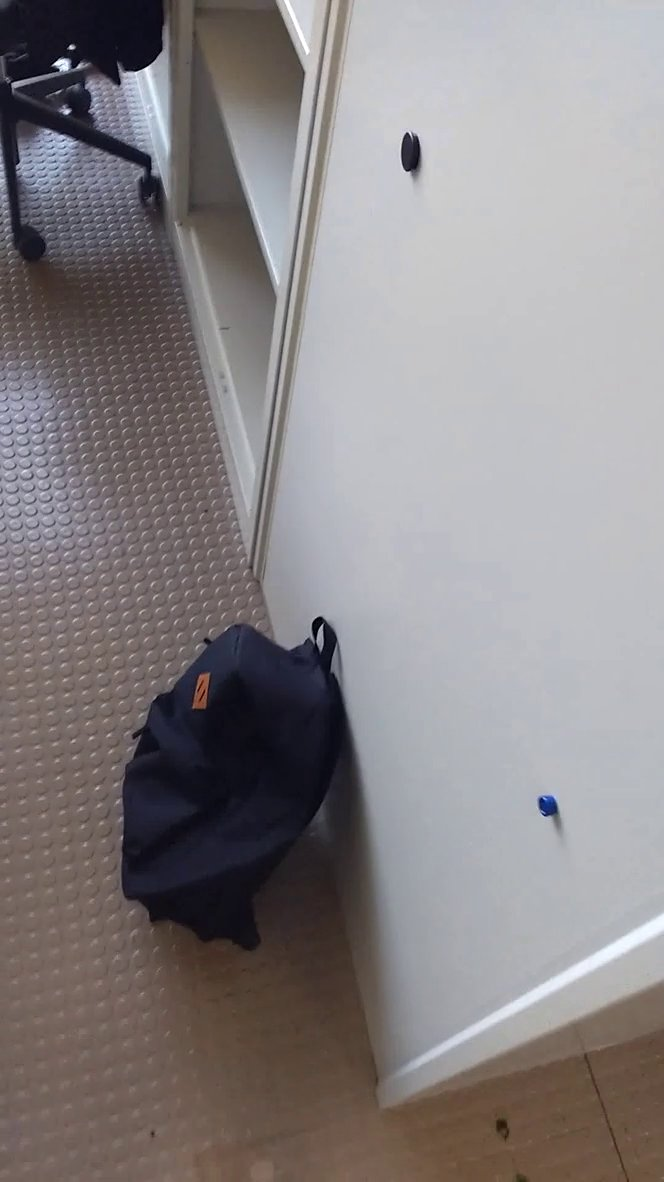bag: (109, 607, 354, 958)
